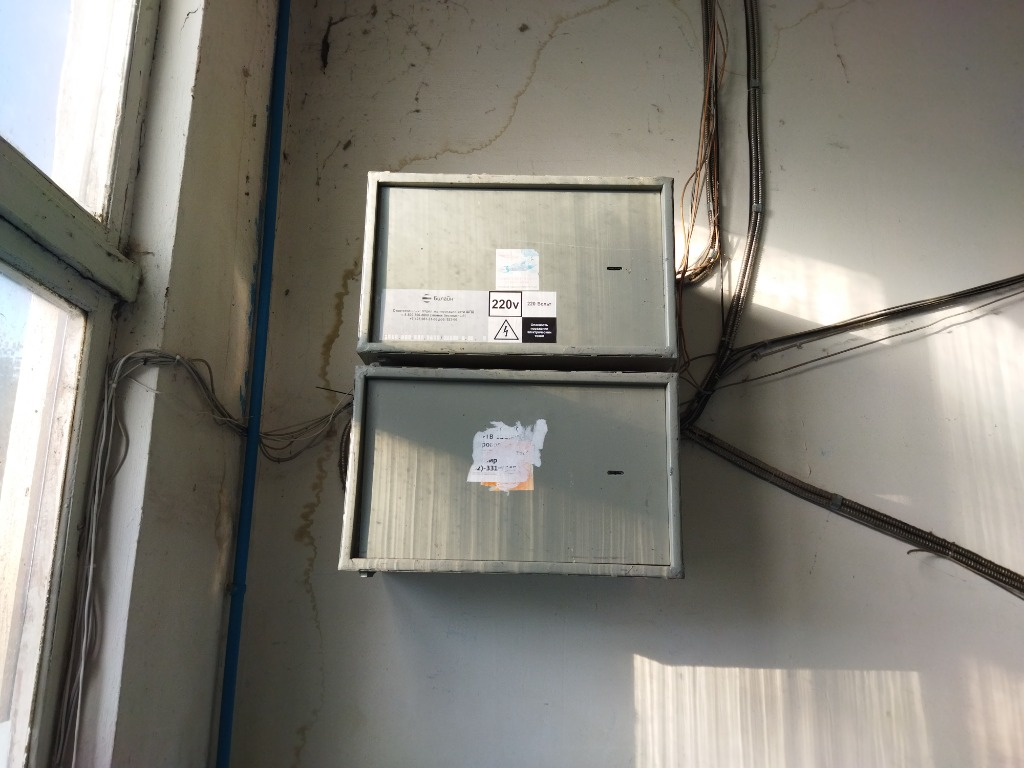e2-6u: (351, 160, 684, 367)
